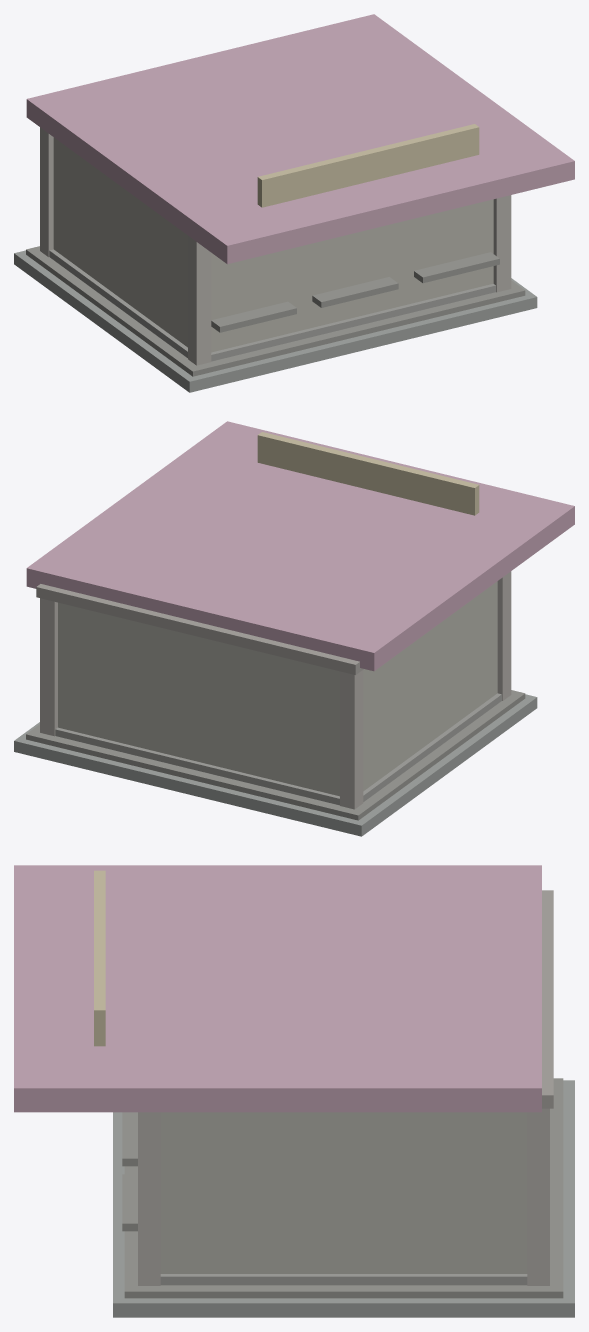
3 renders of one model, top to bottom at view 1: azimuth 30°, elevation 25°; view 2: azimuth 150°, elevation 25°; view 3: azimuth 270°, elevation 25°, orthographic. The views are drawn at different scales.
Visible parts, largest first — view 1: Visual; view 2: Visual; view 3: Visual.
Boxes of the visible parts, left/top/right/bottom form: Visual: left=14, top=14, right=574, bottom=392; Visual: left=14, top=421, right=574, bottom=836; Visual: left=14, top=865, right=574, bottom=1317.
Size of the model in its own units: 20.8 by 11.55 by 22.1.
